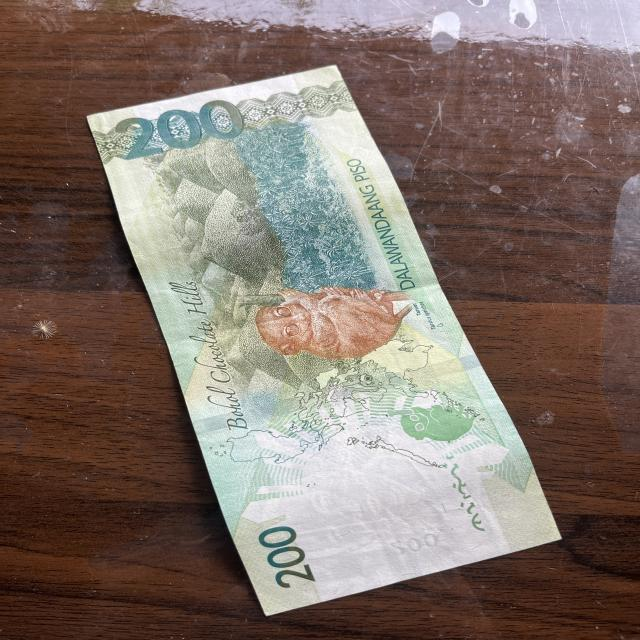200_tarsier: (238, 269, 437, 368)
200_tarsier_watermark: (372, 382, 487, 452)
value_watermark: (382, 530, 450, 561)
watermark: (267, 448, 466, 550)
